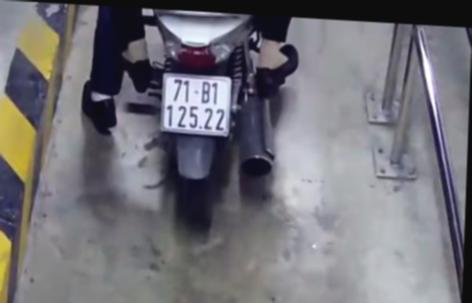License_Plate: (154, 66, 237, 139)
